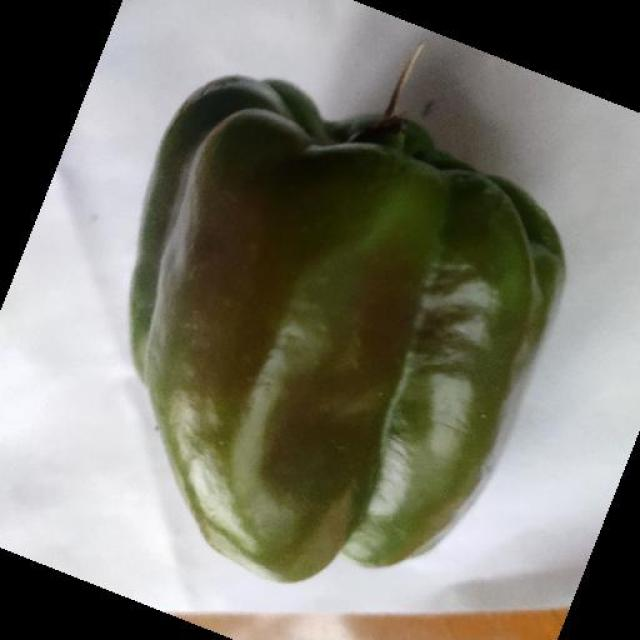Stale_Capsicum: (136, 108, 558, 616)
